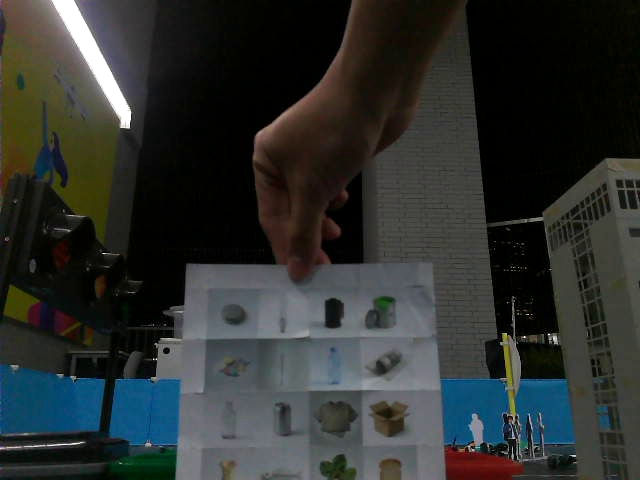hazardous_trash: (258, 341, 309, 390), (356, 290, 409, 335), (206, 291, 257, 337), (207, 343, 257, 389), (258, 290, 308, 336), (310, 291, 355, 338)
recyclable_trash: (363, 393, 419, 445), (205, 391, 255, 446), (361, 340, 414, 389), (310, 394, 361, 444), (307, 341, 358, 390), (356, 291, 409, 336), (259, 394, 308, 442)
